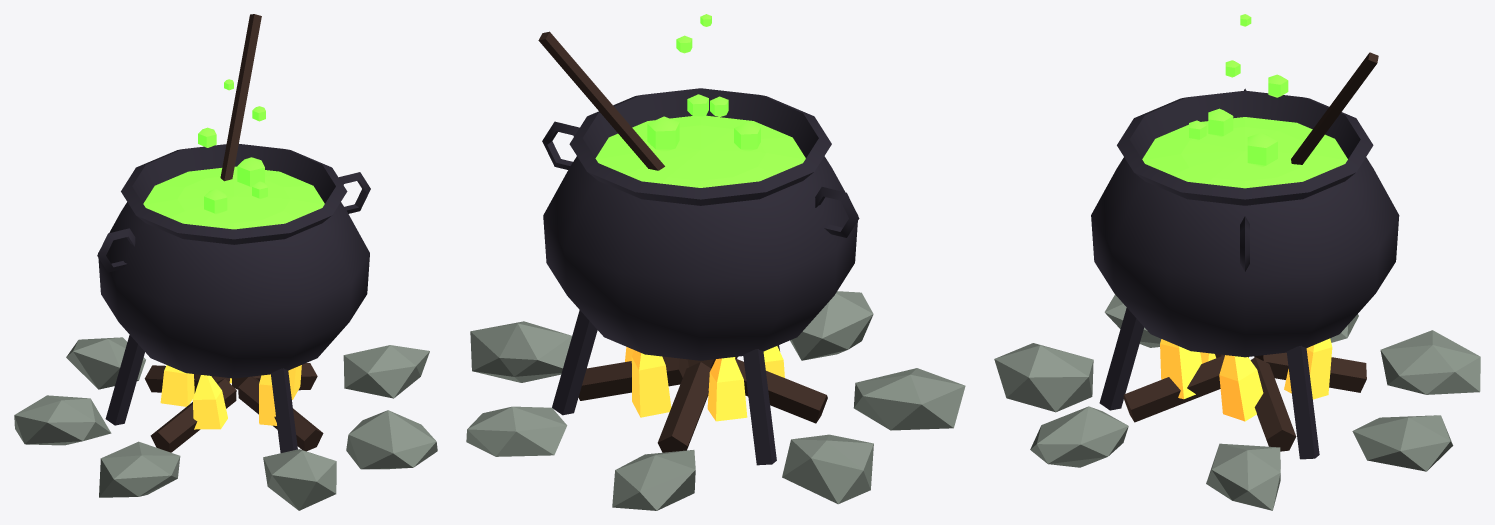
Rendered from cauldron.glb.
The picture shows the model from 3 angles, left to right: view 1: azimuth 30°, elevation 25°; view 2: azimuth 150°, elevation 25°; view 3: azimuth 270°, elevation 25°; orthographic projection. The views are drawn at different scales.
Parts seen in each view (by area): view 1: cauldron; view 2: cauldron; view 3: cauldron.
Part boxes in pixels (bbox=[...]): cauldron: bbox=[14, 14, 437, 510]; cauldron: bbox=[466, 14, 965, 510]; cauldron: bbox=[994, 14, 1480, 510].
Size of the model in its own units: 1.54 by 1.42 by 1.52.
